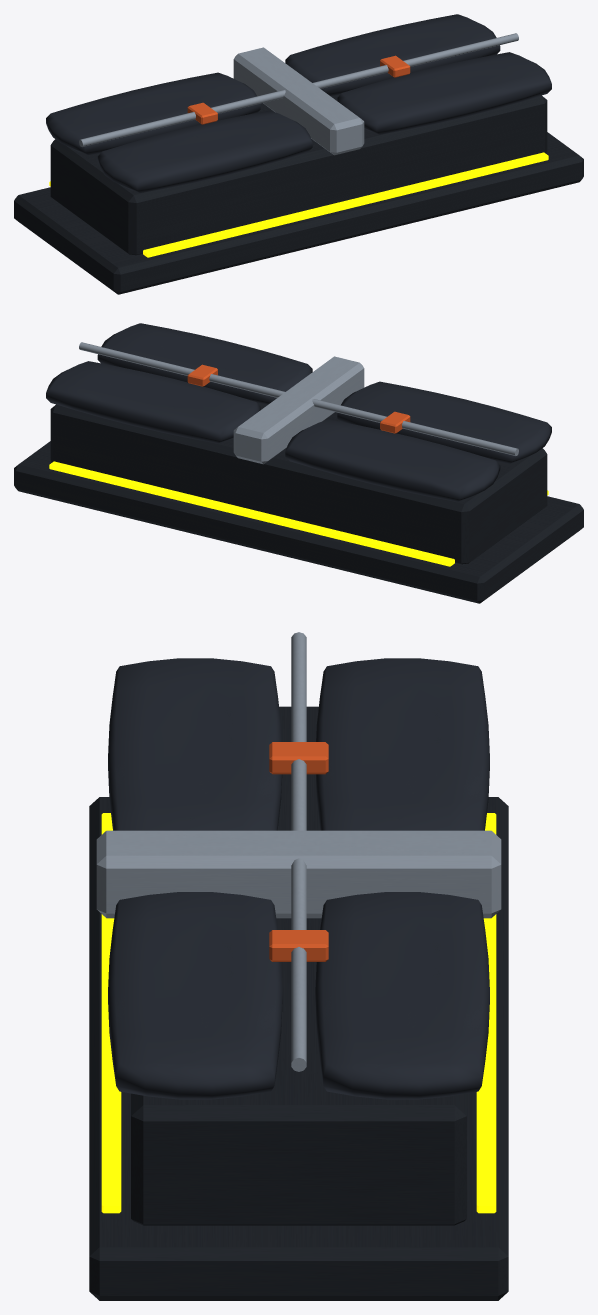
File: eva_suit_prep_bench.glb
3 views of the same model, one above another, from view 1: azimuth 30°, elevation 25°; view 2: azimuth 150°, elevation 25°; view 3: azimuth 270°, elevation 25° (orthographic). The views are drawn at different scales.
Parts seen in each view (by area): view 1: PrepBench_GunmetalChassis, PrepBench_CharcoalFlightpadSeats, PrepBench_CenterToolAndTetherRack, PrepBench_UnderSeatAmberGlow, PrepBench_SignalOrangeTetherClamps; view 2: PrepBench_GunmetalChassis, PrepBench_CharcoalFlightpadSeats, PrepBench_CenterToolAndTetherRack, PrepBench_UnderSeatAmberGlow, PrepBench_SignalOrangeTetherClamps; view 3: PrepBench_CharcoalFlightpadSeats, PrepBench_GunmetalChassis, PrepBench_CenterToolAndTetherRack, PrepBench_UnderSeatAmberGlow, PrepBench_SignalOrangeTetherClamps.
Boxes of the visible parts, x1,y1,x2,y2 form: PrepBench_GunmetalChassis: [14, 94, 583, 294]; PrepBench_CharcoalFlightpadSeats: [46, 14, 551, 192]; PrepBench_CenterToolAndTetherRack: [79, 33, 518, 155]; PrepBench_UnderSeatAmberGlow: [49, 152, 548, 257]; PrepBench_SignalOrangeTetherClamps: [187, 55, 410, 124]; PrepBench_GunmetalChassis: [14, 403, 583, 603]; PrepBench_CharcoalFlightpadSeats: [46, 323, 551, 501]; PrepBench_CenterToolAndTetherRack: [79, 342, 518, 464]; PrepBench_UnderSeatAmberGlow: [49, 461, 548, 566]; PrepBench_SignalOrangeTetherClamps: [187, 364, 410, 433]; PrepBench_CharcoalFlightpadSeats: [108, 658, 489, 1099]; PrepBench_GunmetalChassis: [89, 706, 508, 1300]; PrepBench_CenterToolAndTetherRack: [96, 632, 501, 1071]; PrepBench_UnderSeatAmberGlow: [101, 813, 496, 1213]; PrepBench_SignalOrangeTetherClamps: [269, 742, 328, 961].
Size of the model in its own units: 2.2 by 0.52 by 0.85.
5 materials, 5 textured.
